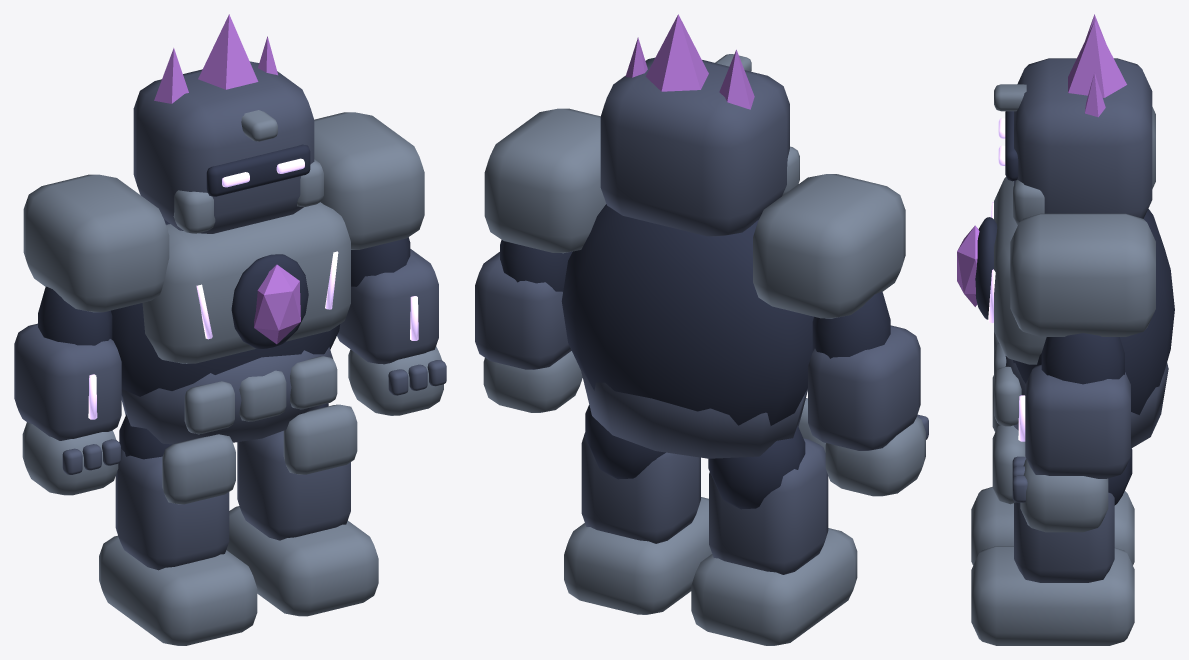
Rendered from corrupted_guardian.glb.
3 views of the same model, side by side, from view 1: azimuth 30°, elevation 25°; view 2: azimuth 150°, elevation 25°; view 3: azimuth 270°, elevation 25° (orthographic). The views are drawn at different scales.
Parts seen in each view (by area): view 1: Torso_mesh, ArmLeft_mesh, Head_mesh, ArmRight_mesh, LegLeft_mesh, LegRight_mesh; view 2: Torso_mesh, ArmLeft_mesh, Head_mesh, ArmRight_mesh, LegLeft_mesh, LegRight_mesh; view 3: ArmRight_mesh, Head_mesh, LegRight_mesh, Torso_mesh, LegLeft_mesh.
Boxes of the visible parts, x1,y1,x2,y2 form: Torso_mesh: (111,202,350,444); ArmLeft_mesh: (14,174,169,495); Head_mesh: (133,14,323,233); ArmRight_mesh: (314,112,446,415); LegLeft_mesh: (99,414,257,645); LegRight_mesh: (226,403,378,616); Torso_mesh: (561,204,813,458); ArmLeft_mesh: (753,174,928,496); Head_mesh: (600,14,799,236); ArmRight_mesh: (475,108,606,412); LegLeft_mesh: (691,398,857,645); LegRight_mesh: (564,405,712,614); ArmRight_mesh: (1010,213,1155,532); Head_mesh: (994,14,1152,224); LegRight_mesh: (971,425,1134,645); Torso_mesh: (957,177,1174,448); LegLeft_mesh: (971,375,1134,565).
Size of the model in its own units: 1.87 by 2.57 by 0.8673.
